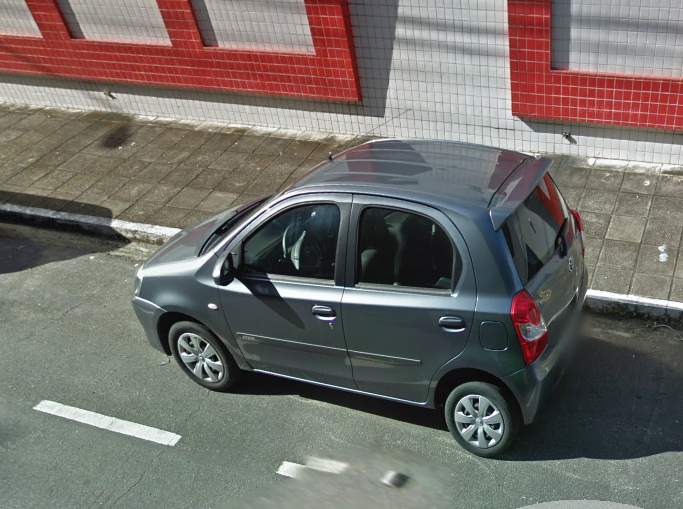car: (128, 103, 593, 461)
